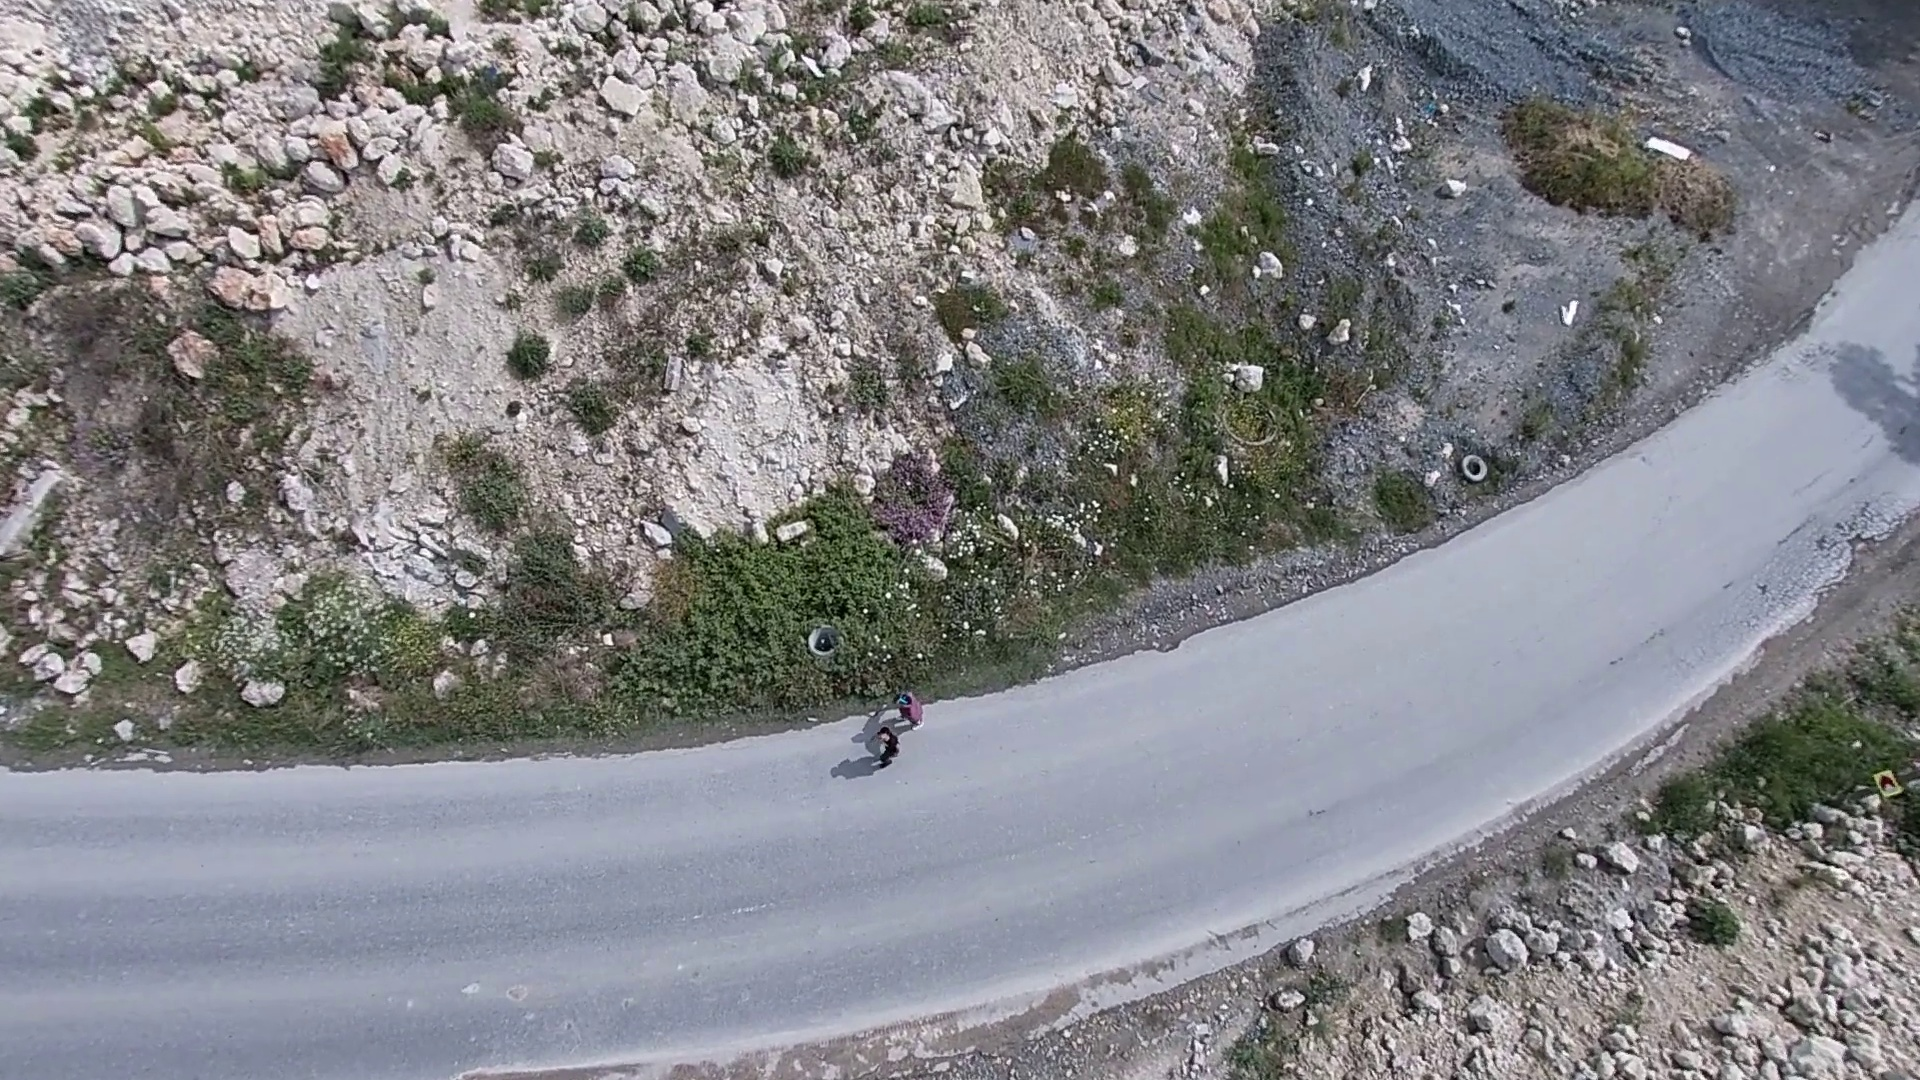insan: (876, 682, 930, 735), (851, 723, 901, 775)
